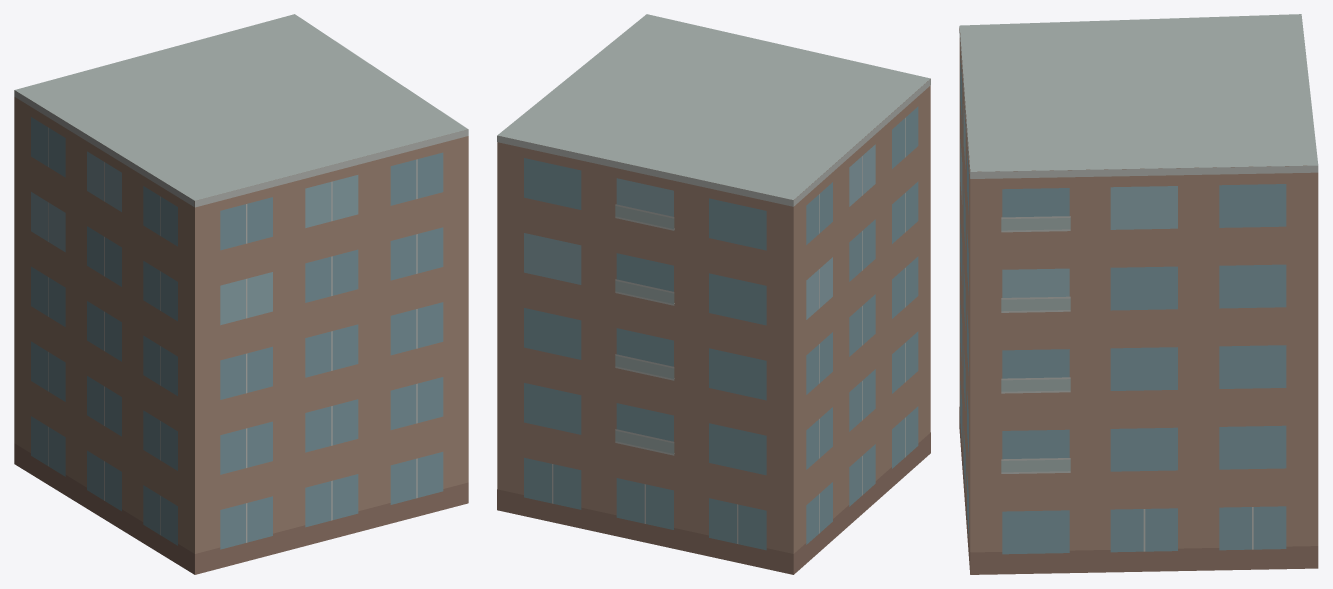
Rendered from survey-upis-32914942.glb.
The picture shows the model from 3 angles, left to right: view 1: azimuth 30°, elevation 25°; view 2: azimuth 150°, elevation 25°; view 3: azimuth 270°, elevation 25°; orthographic projection. The views are drawn at different scales.
Visible parts, largest first — view 1: survey-upis-32914942.tmp; view 2: survey-upis-32914942.tmp; view 3: survey-upis-32914942.tmp.
Part boxes in pixels (x1,y1,x2,y2): survey-upis-32914942.tmp: (14, 14, 468, 574); survey-upis-32914942.tmp: (497, 14, 930, 574); survey-upis-32914942.tmp: (959, 14, 1318, 574).
Bounding box in the file's own units: 11.52 × 13.7 × 11.07.
